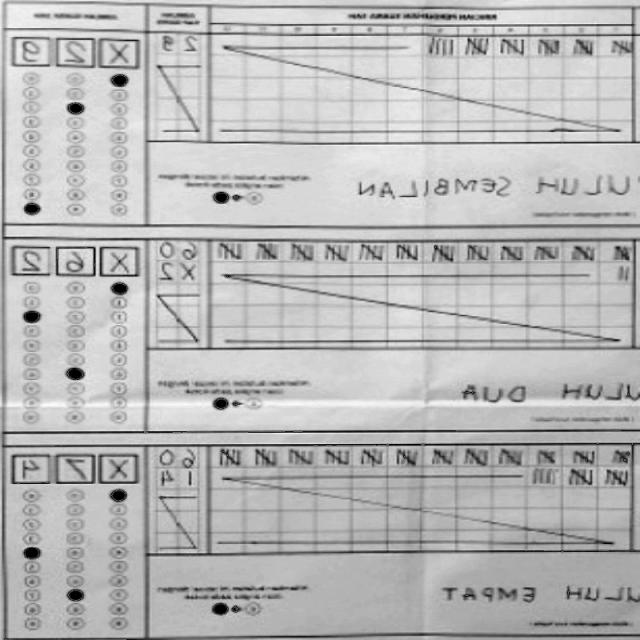Suara: (4, 440, 146, 488), (2, 234, 147, 280), (16, 30, 150, 67)
